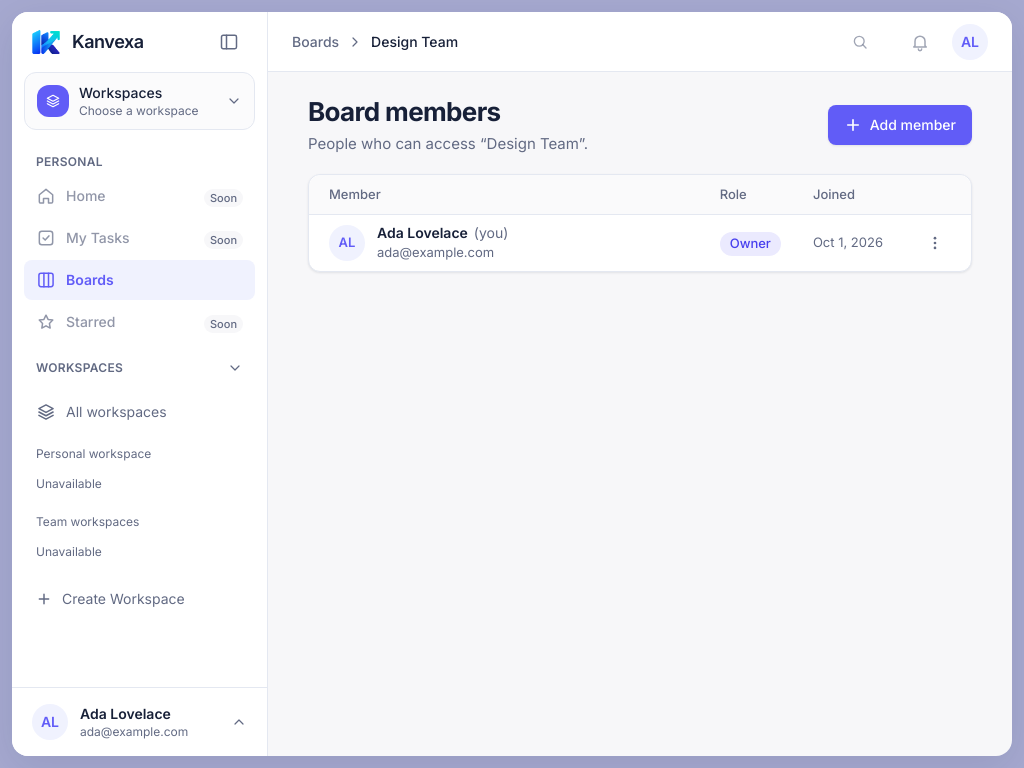
Test: BoardMembersPage (as OWNER) › adds a registered user by email and refreshes the list
The width and height of the screenshot is (1024, 768).
Click the button "Add member".
click(900, 125)  # box [828,105,972,145]
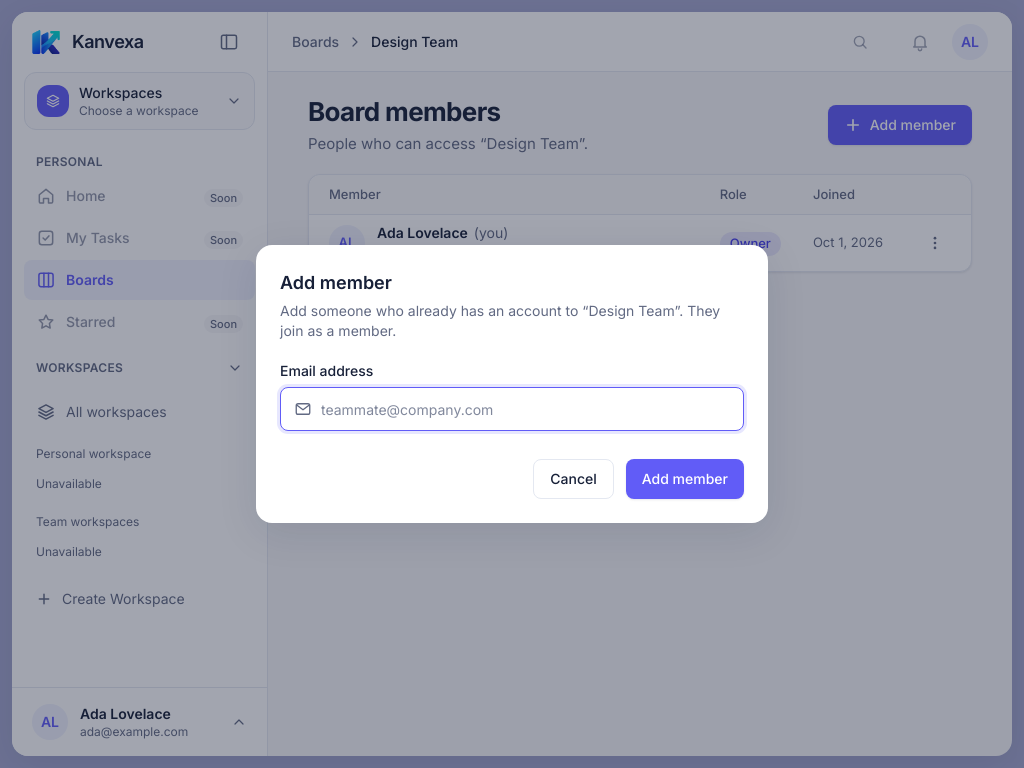
Type "  Grace@Example.com " into the field labelled "Email address".
click(512, 409); type("  Grace@Example.com ")  # box [280,387,744,431]
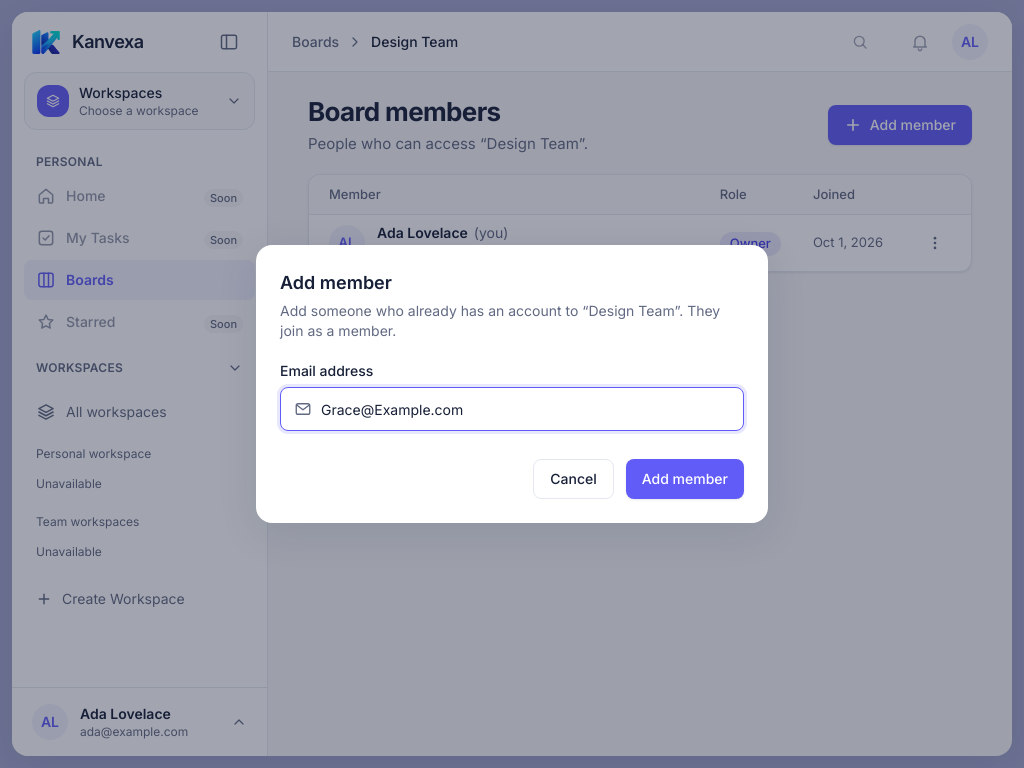
Click the button "Add member".
click(685, 479)  # box [626,459,744,499]
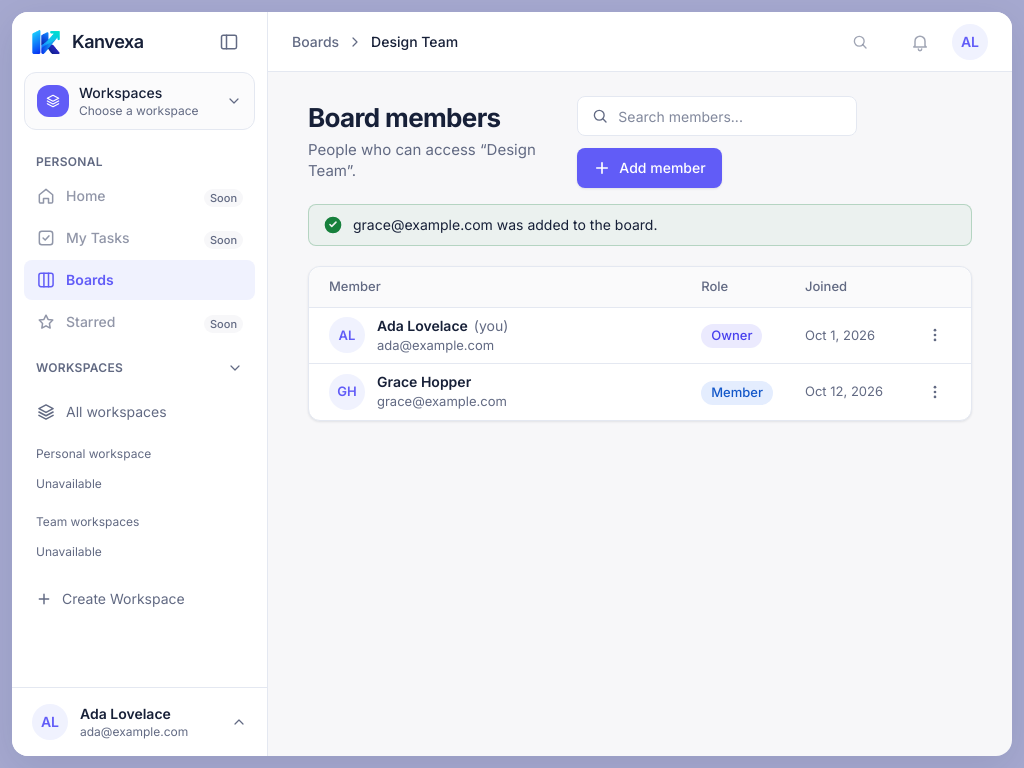
Check: the message reads "grace@example.com was added to the board.", box [353,216,657,233]
Check: the text "Grace Hopper" is shown, box [377,373,471,390]
